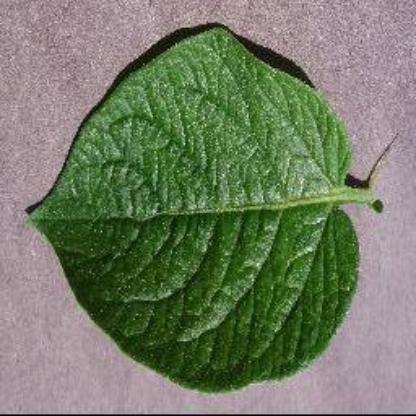Healthy-plant: (32, 28, 372, 394)
